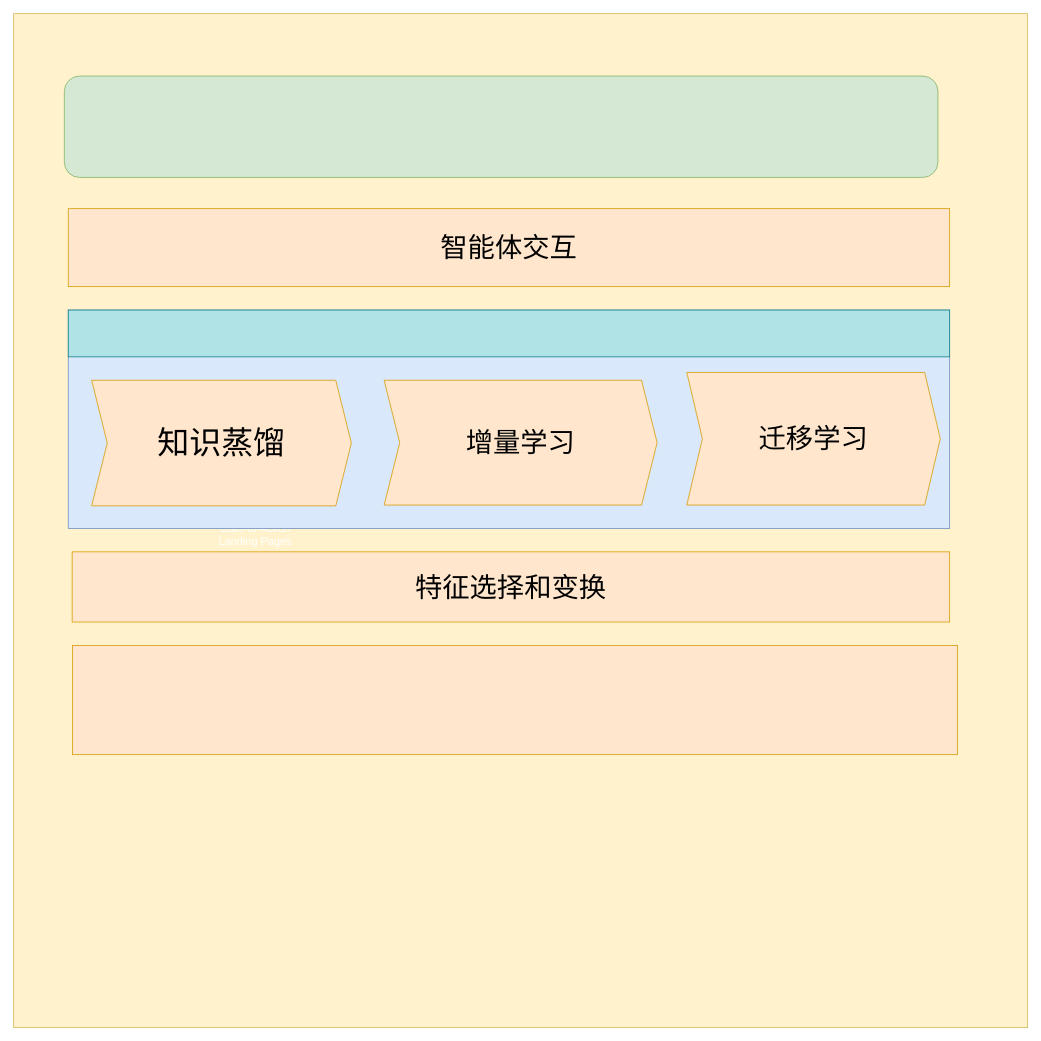
This 1041x1041 diagram has some shape labels left out. The shapes that lost their labels are listed below. From the top down, each one's centre as x and y in pixels, then its label:
(501,126): 领域适应方法
(508,333): 模型迭代
(514,700): 跨领域数据
